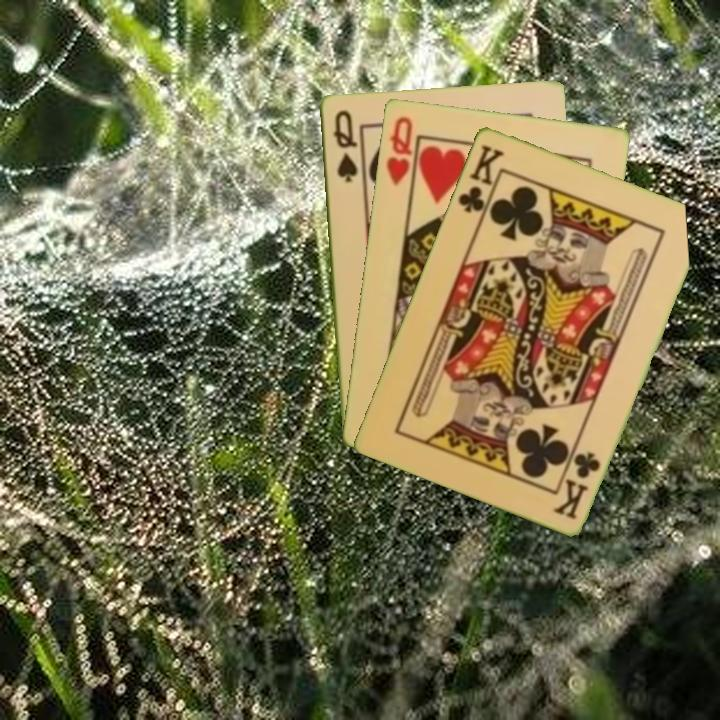Kc: (454, 140, 507, 223), (551, 448, 603, 522)
Qh: (382, 112, 415, 188)
Qs: (329, 106, 360, 185)
